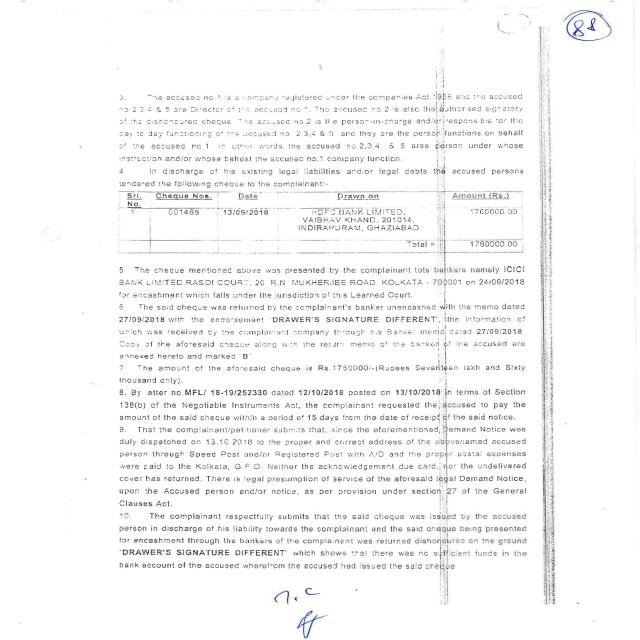page-number: (554, 1, 630, 170)
